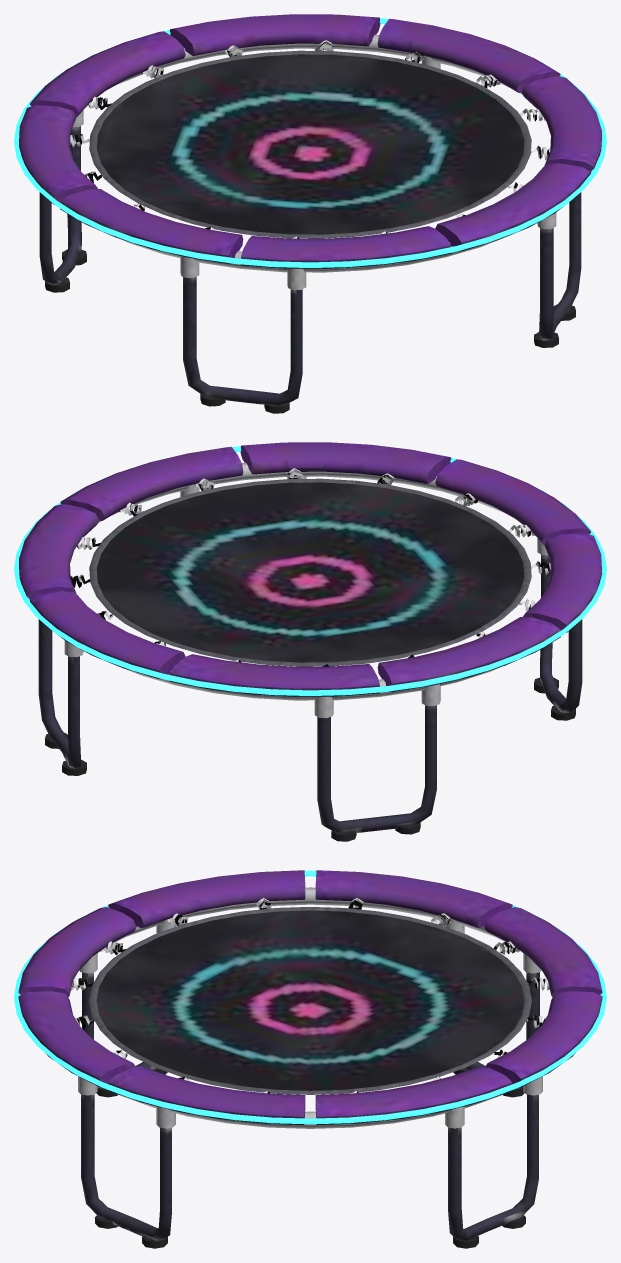
File: trampoline.glb
3 renders of one model, top to bottom at view 1: azimuth 30°, elevation 25°; view 2: azimuth 150°, elevation 25°; view 3: azimuth 270°, elevation 25°, orthographic.
Parts seen in each view (by area): view 1: body, mat_surface; view 2: body, mat_surface; view 3: body, mat_surface.
Part boxes in pixels (x1,y1,x2,y2): body: (14, 14, 606, 413); mat_surface: (96, 54, 524, 234); body: (14, 442, 606, 841); mat_surface: (96, 482, 524, 662); body: (14, 870, 606, 1248); mat_surface: (96, 910, 524, 1090).
Bounding box in the file's own units: 2.06 × 0.646 × 2.06.
2 materials, 1 textured.
